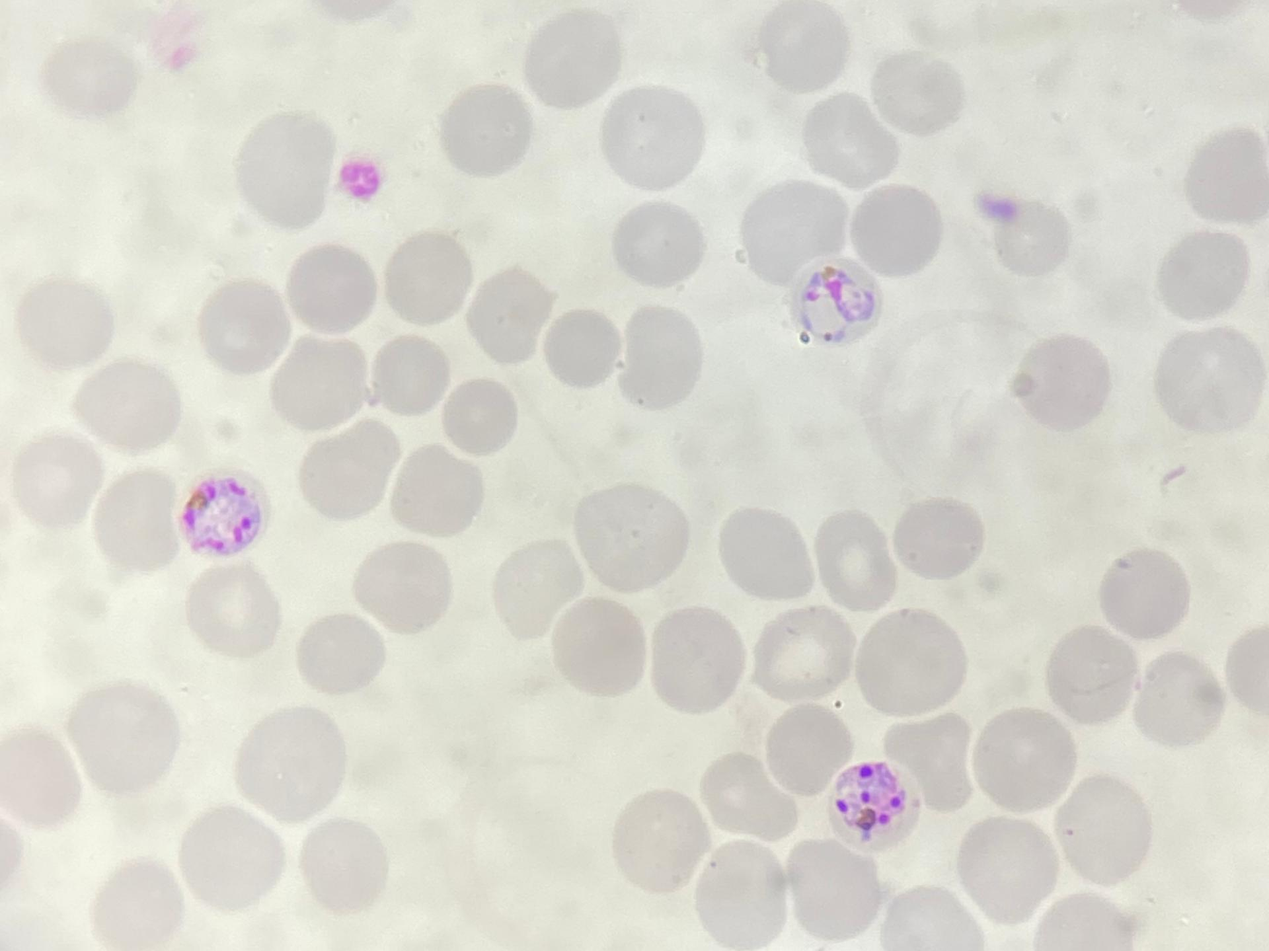Infected: (827, 758, 919, 849), (793, 253, 883, 341), (178, 469, 268, 555)
Uninfected: (65, 682, 180, 798), (231, 708, 344, 824), (236, 106, 337, 232), (572, 482, 688, 590), (853, 609, 967, 715), (1151, 326, 1261, 434), (178, 805, 285, 911), (739, 180, 844, 282), (1054, 775, 1150, 885), (71, 356, 182, 451), (600, 87, 704, 188), (971, 707, 1073, 809), (956, 815, 1057, 918), (297, 420, 399, 521), (610, 790, 709, 892), (648, 608, 745, 712), (783, 838, 880, 941), (693, 840, 788, 945), (549, 595, 648, 695), (750, 610, 855, 704), (270, 335, 370, 432), (386, 444, 486, 541), (352, 538, 455, 632), (436, 80, 533, 179), (184, 562, 282, 659), (717, 505, 815, 602), (1011, 334, 1110, 430), (92, 468, 184, 571), (801, 91, 898, 188), (523, 10, 621, 106), (1044, 626, 1140, 724), (15, 275, 114, 369), (881, 710, 973, 810), (615, 307, 703, 410), (197, 280, 290, 376), (465, 266, 559, 360), (10, 431, 102, 527), (761, 704, 853, 800), (849, 184, 943, 277), (382, 229, 474, 324), (813, 509, 899, 609), (286, 241, 378, 334), (1098, 547, 1190, 640), (1132, 651, 1223, 745), (755, 2, 850, 92), (699, 751, 792, 842), (0, 726, 82, 829), (1182, 126, 1269, 223), (1155, 230, 1250, 318), (492, 541, 580, 636), (611, 200, 707, 287), (299, 817, 386, 913), (892, 496, 985, 585), (91, 858, 184, 943), (40, 38, 135, 118), (872, 53, 961, 136), (294, 612, 384, 693), (981, 194, 1070, 275), (370, 333, 453, 416), (440, 375, 520, 457), (541, 309, 619, 391), (880, 885, 977, 948), (1034, 892, 1135, 947)
